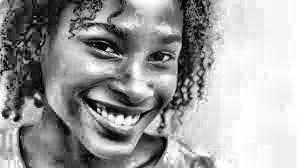happy: (36, 0, 214, 168)
